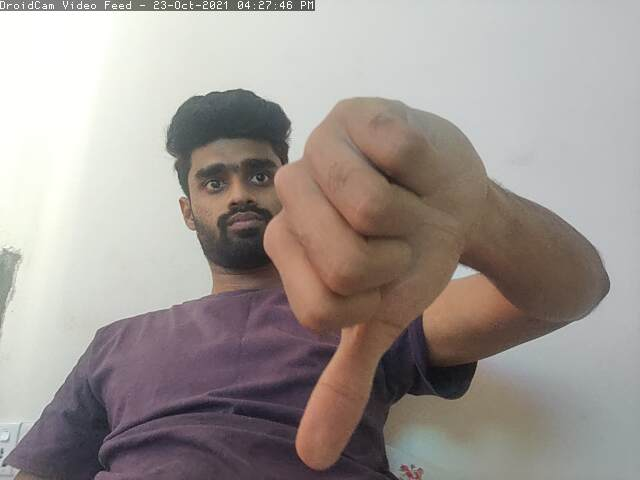ThumbsDown: (264, 92, 487, 470)
